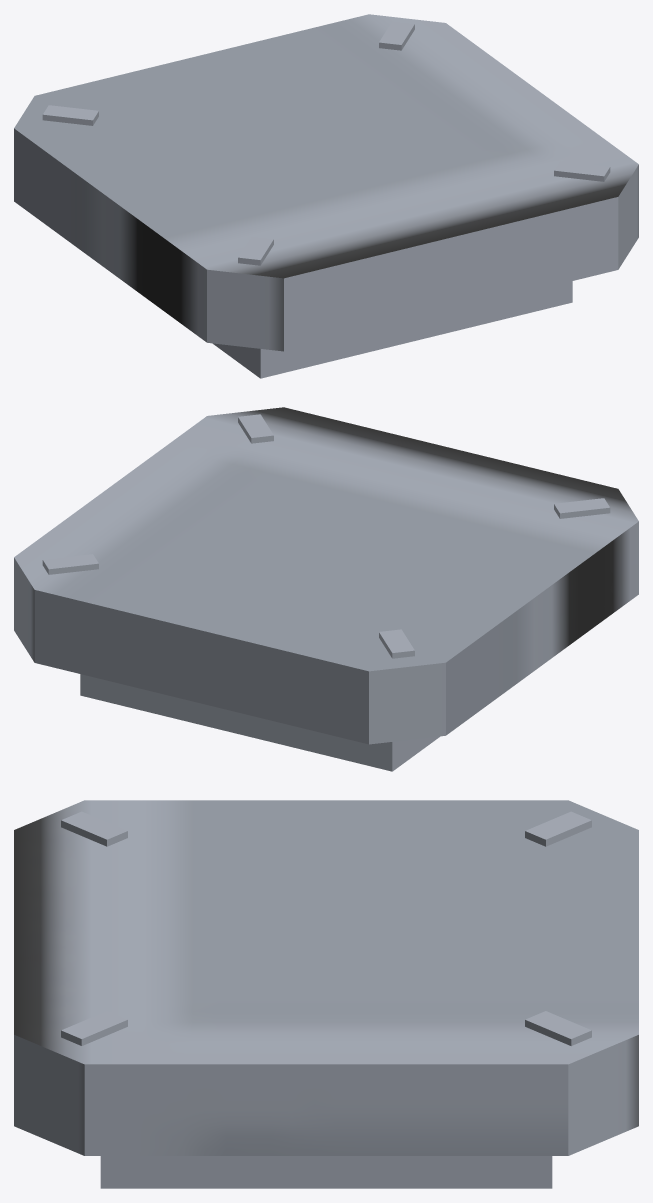
Rendered from PressPlane.fbx.
3 renders of one model, top to bottom at view 1: azimuth 30°, elevation 25°; view 2: azimuth 150°, elevation 25°; view 3: azimuth 270°, elevation 25°, orthographic. The views are drawn at different scales.
Parts seen in each view (by area): view 1: 立方体; view 2: 立方体; view 3: 立方体.
Boxes of the visible parts, x1,y1,x2,y2 form: 立方体: [14, 14, 638, 378]; 立方体: [14, 407, 638, 771]; 立方体: [14, 800, 638, 1188].
Bounding box in the file's own units: 2 × 2 × 0.5928.
